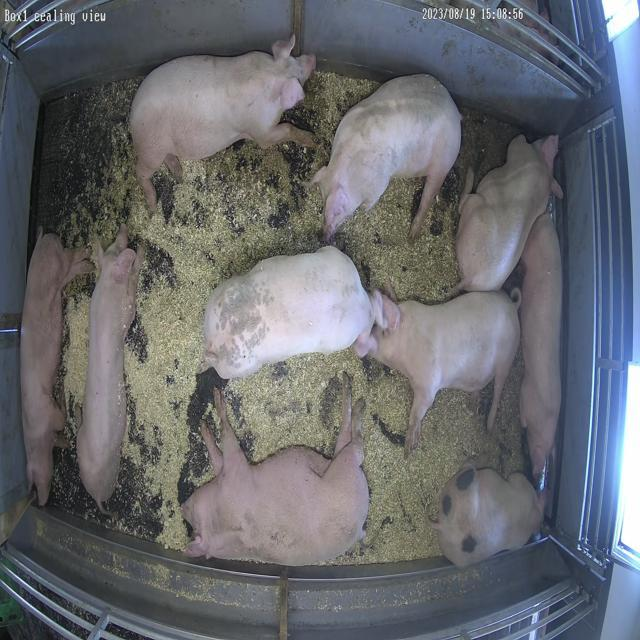Dirt: (176, 138, 330, 200), (453, 107, 524, 192), (284, 71, 332, 146)
Pig: (181, 384, 369, 566), (129, 35, 316, 210), (204, 247, 394, 380), (313, 75, 462, 240), (370, 292, 521, 452), (20, 232, 91, 506), (76, 225, 143, 514), (457, 135, 563, 292), (433, 466, 545, 568), (521, 212, 563, 480)
